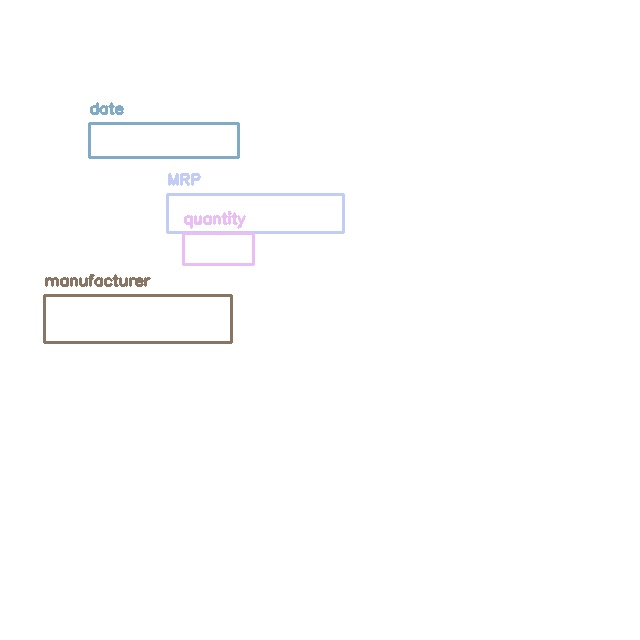MRP: (167, 194, 343, 232)
date: (89, 123, 238, 157)
manufacturer: (44, 295, 231, 342)
quantity: (183, 233, 253, 264)
